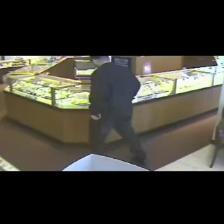person: (89, 56, 145, 165)
